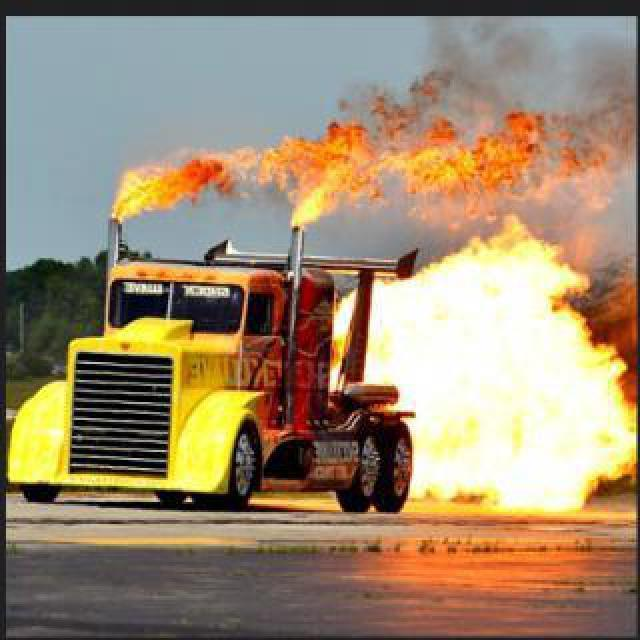Fire: (350, 220, 614, 520), (86, 80, 530, 236)
Smoke: (412, 22, 614, 130)
